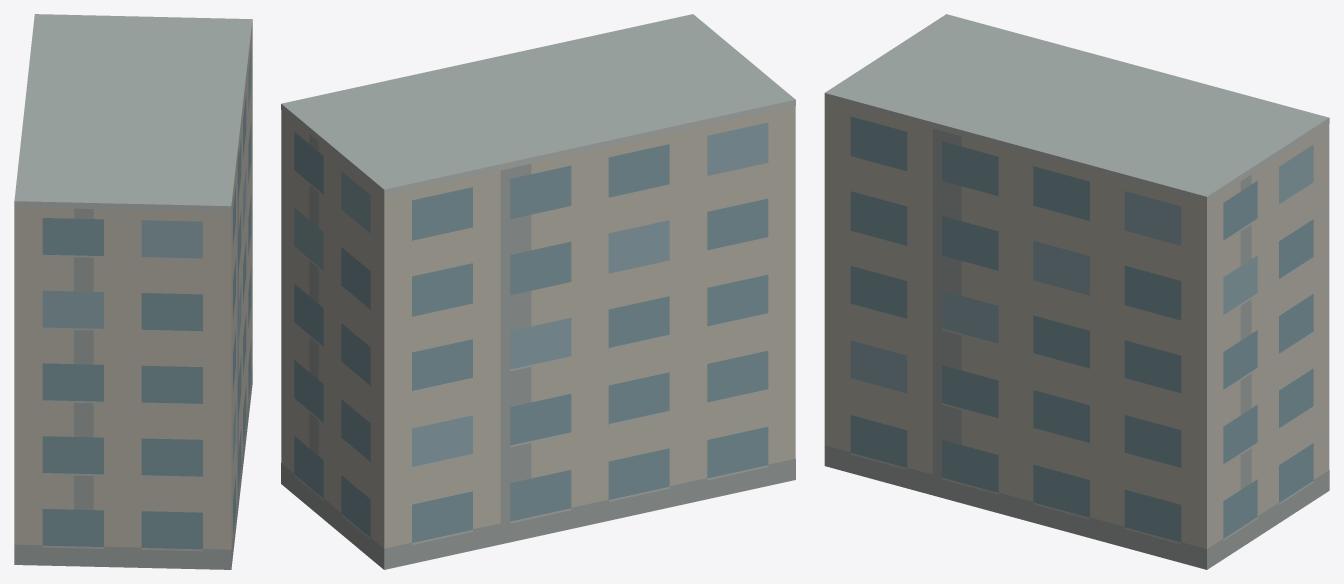
File: survey-upis-32887475.glb
3 renders of one model, left to right at view 1: azimuth 30°, elevation 25°; view 2: azimuth 150°, elevation 25°; view 3: azimuth 270°, elevation 25°, orthographic. The views are drawn at different scales.
Parts seen in each view (by area): view 1: survey-upis-32887475.tmp; view 2: survey-upis-32887475.tmp; view 3: survey-upis-32887475.tmp.
Boxes of the visible parts, <box> form: survey-upis-32887475.tmp: <box>14,14,252,569</box>; survey-upis-32887475.tmp: <box>281,14,795,569</box>; survey-upis-32887475.tmp: <box>824,14,1329,569</box>.
Bounding box in the file's own units: 15.35 × 14.6 × 17.91.
